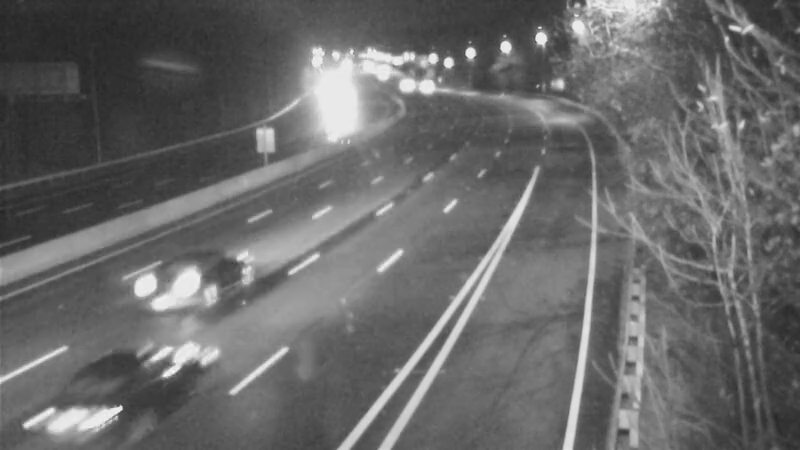vehicle: (53, 345, 163, 450), (141, 247, 221, 327), (377, 55, 427, 105), (402, 59, 452, 109)
